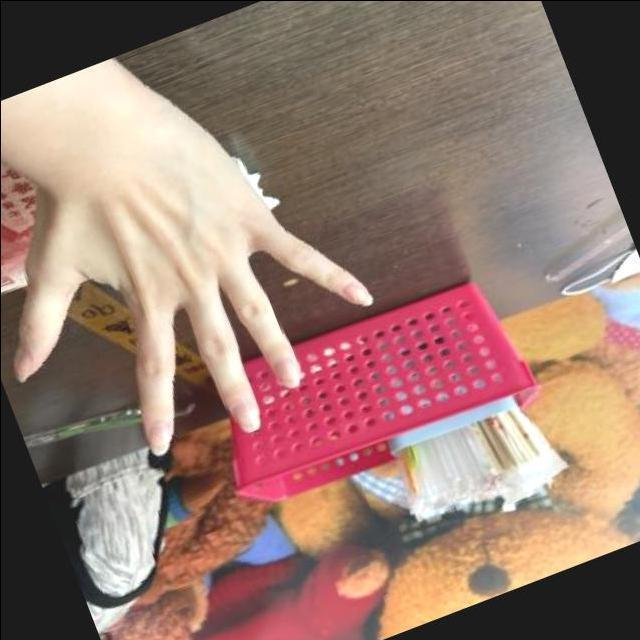Hand: (15, 100, 379, 458)
